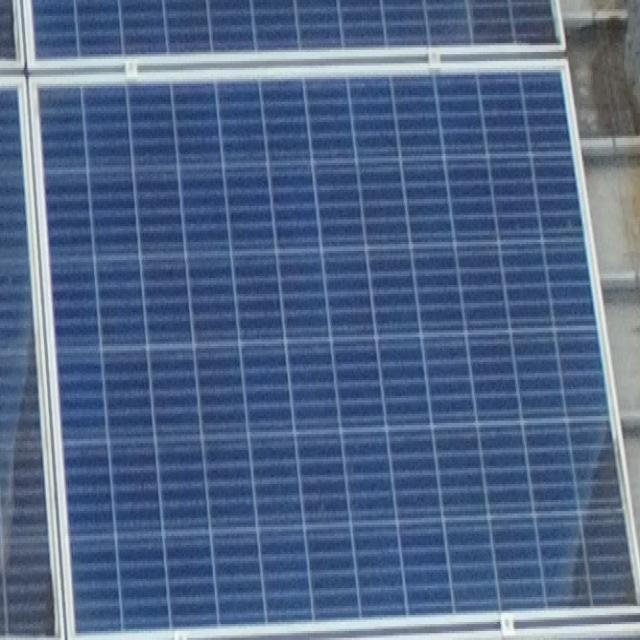Dust: (561, 411, 635, 626), (13, 332, 61, 637)
